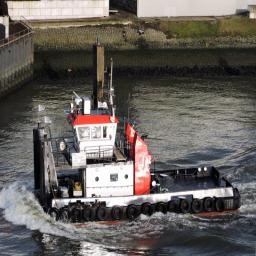tugboat: (32, 91, 244, 234)
